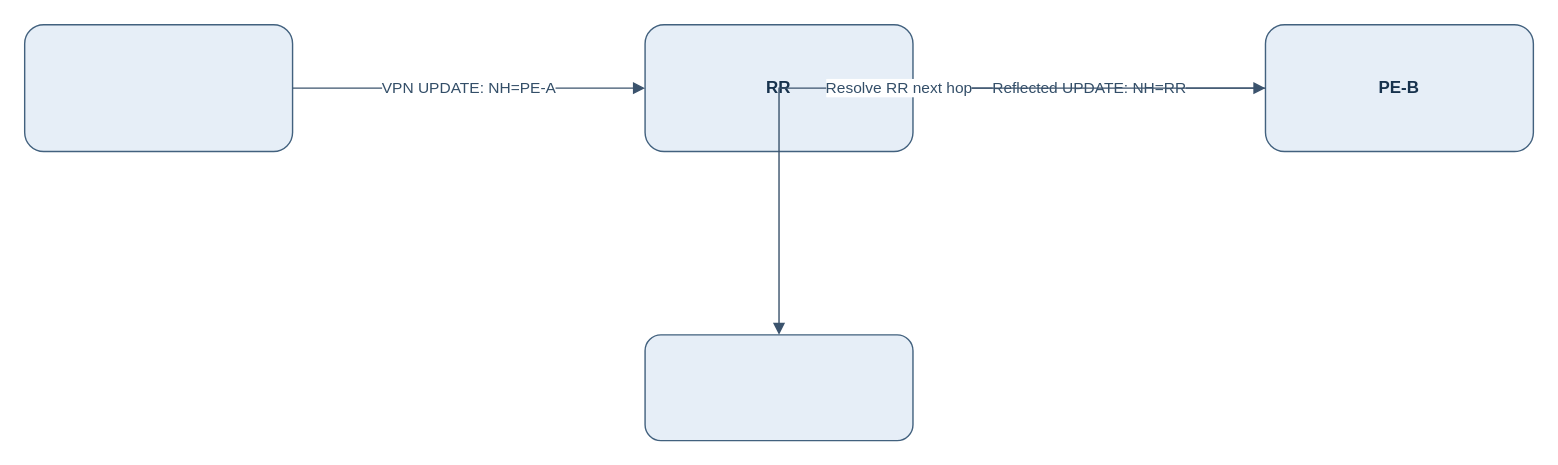
The diagram is 1558 pixels wide and 465 high, and some of its shapes have lost their labels. The centre of each missing label's shape, as x and y in pixels:
PE-A: point 158,87
Transport: point 778,387
